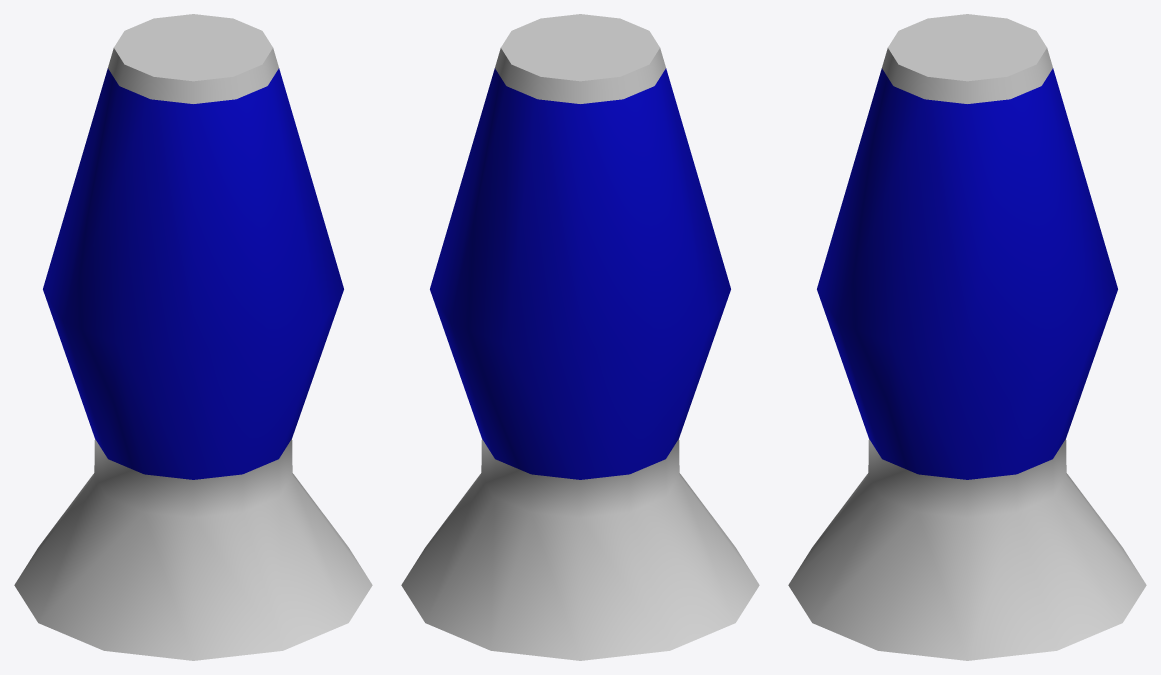
Rendered from Lamp.004.fbx.
3 renders of one model, left to right at view 1: azimuth 30°, elevation 25°; view 2: azimuth 150°, elevation 25°; view 3: azimuth 270°, elevation 25°, orthographic.
Visible parts, largest first — view 1: Lamp.004; view 2: Lamp.004; view 3: Lamp.004.
Part boxes in pixels (x1=…): Lamp.004: x1=14, y1=14, x2=372, y2=660; Lamp.004: x1=401, y1=14, x2=759, y2=660; Lamp.004: x1=788, y1=14, x2=1146, y2=660.
Size of the model in its own units: 0.2341 by 0.3873 by 0.2341.
